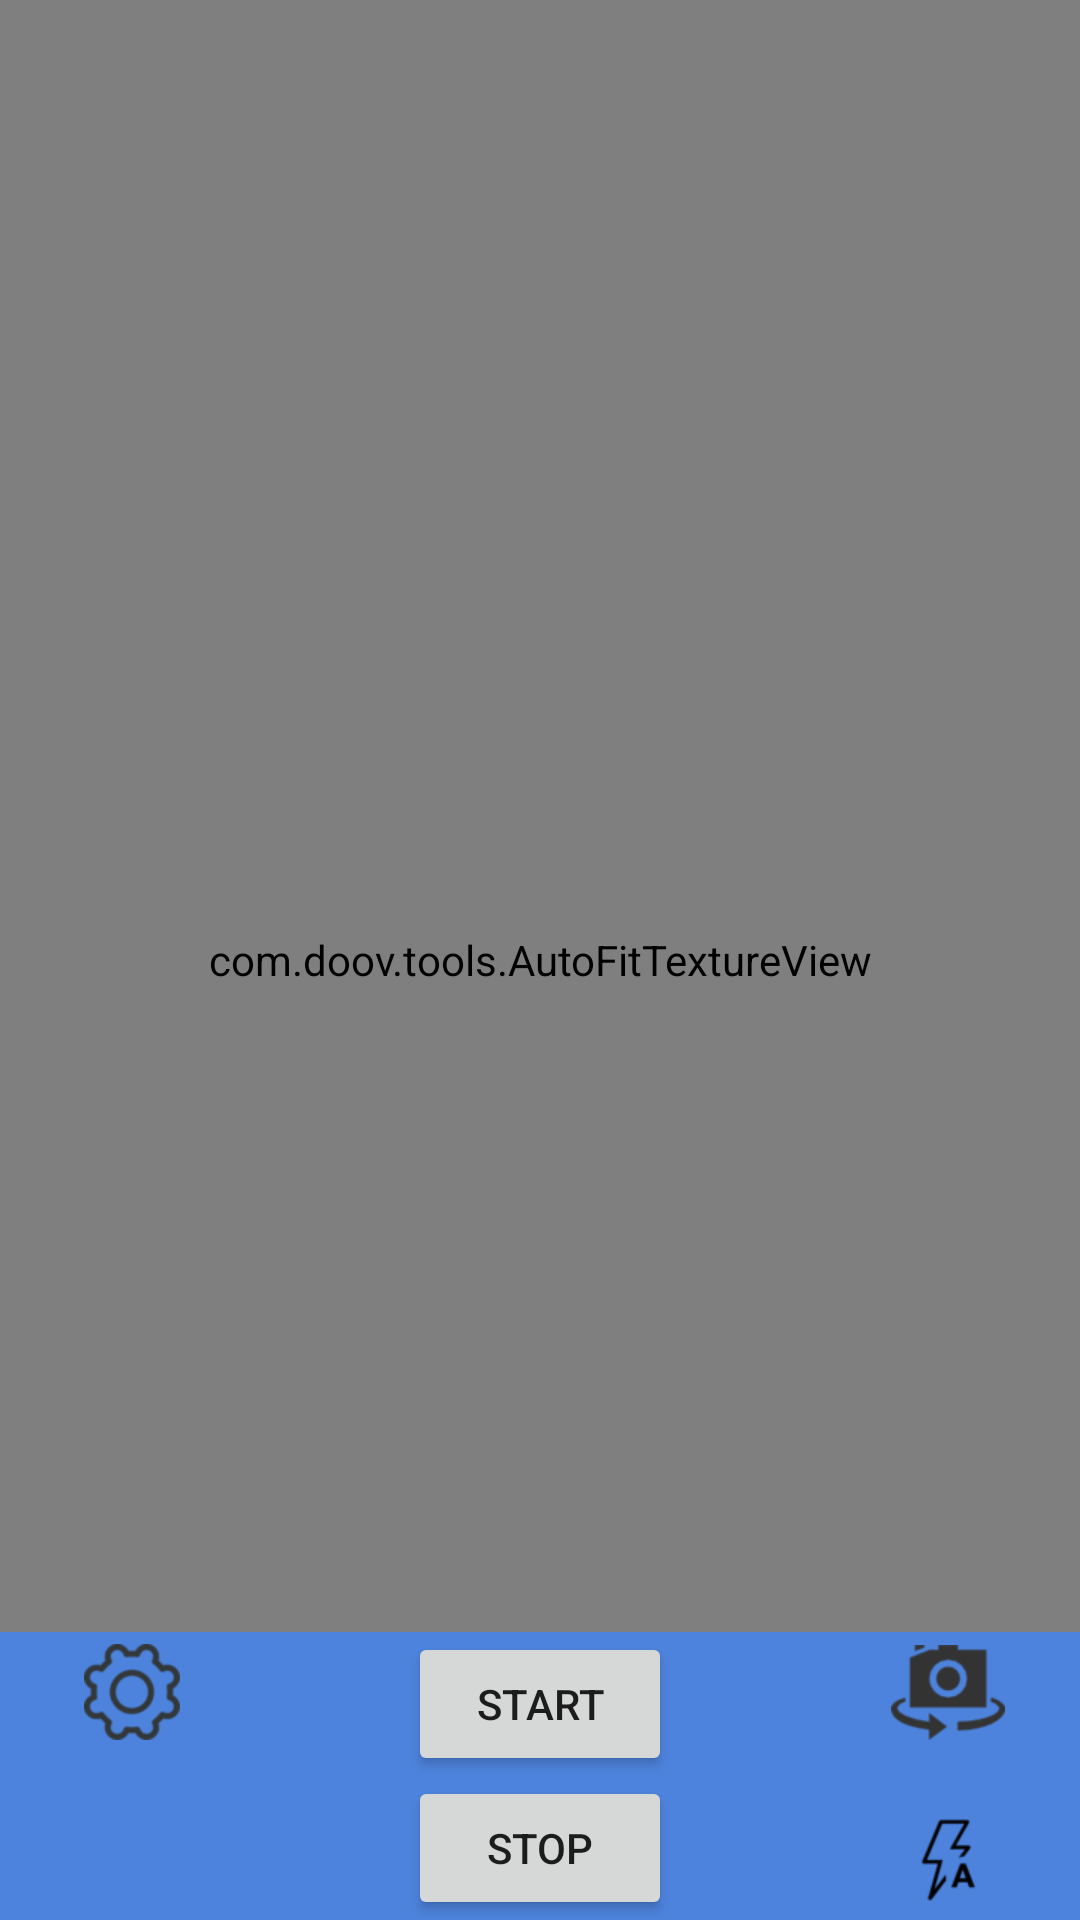

Locate icon controls on the screen. Image size 1080x1920, boxes as (x1, y1, x2, y2).
flash auto: (921, 1819, 976, 1901)
settings: (84, 1644, 180, 1740)
switch camera: (891, 1645, 1005, 1740)
